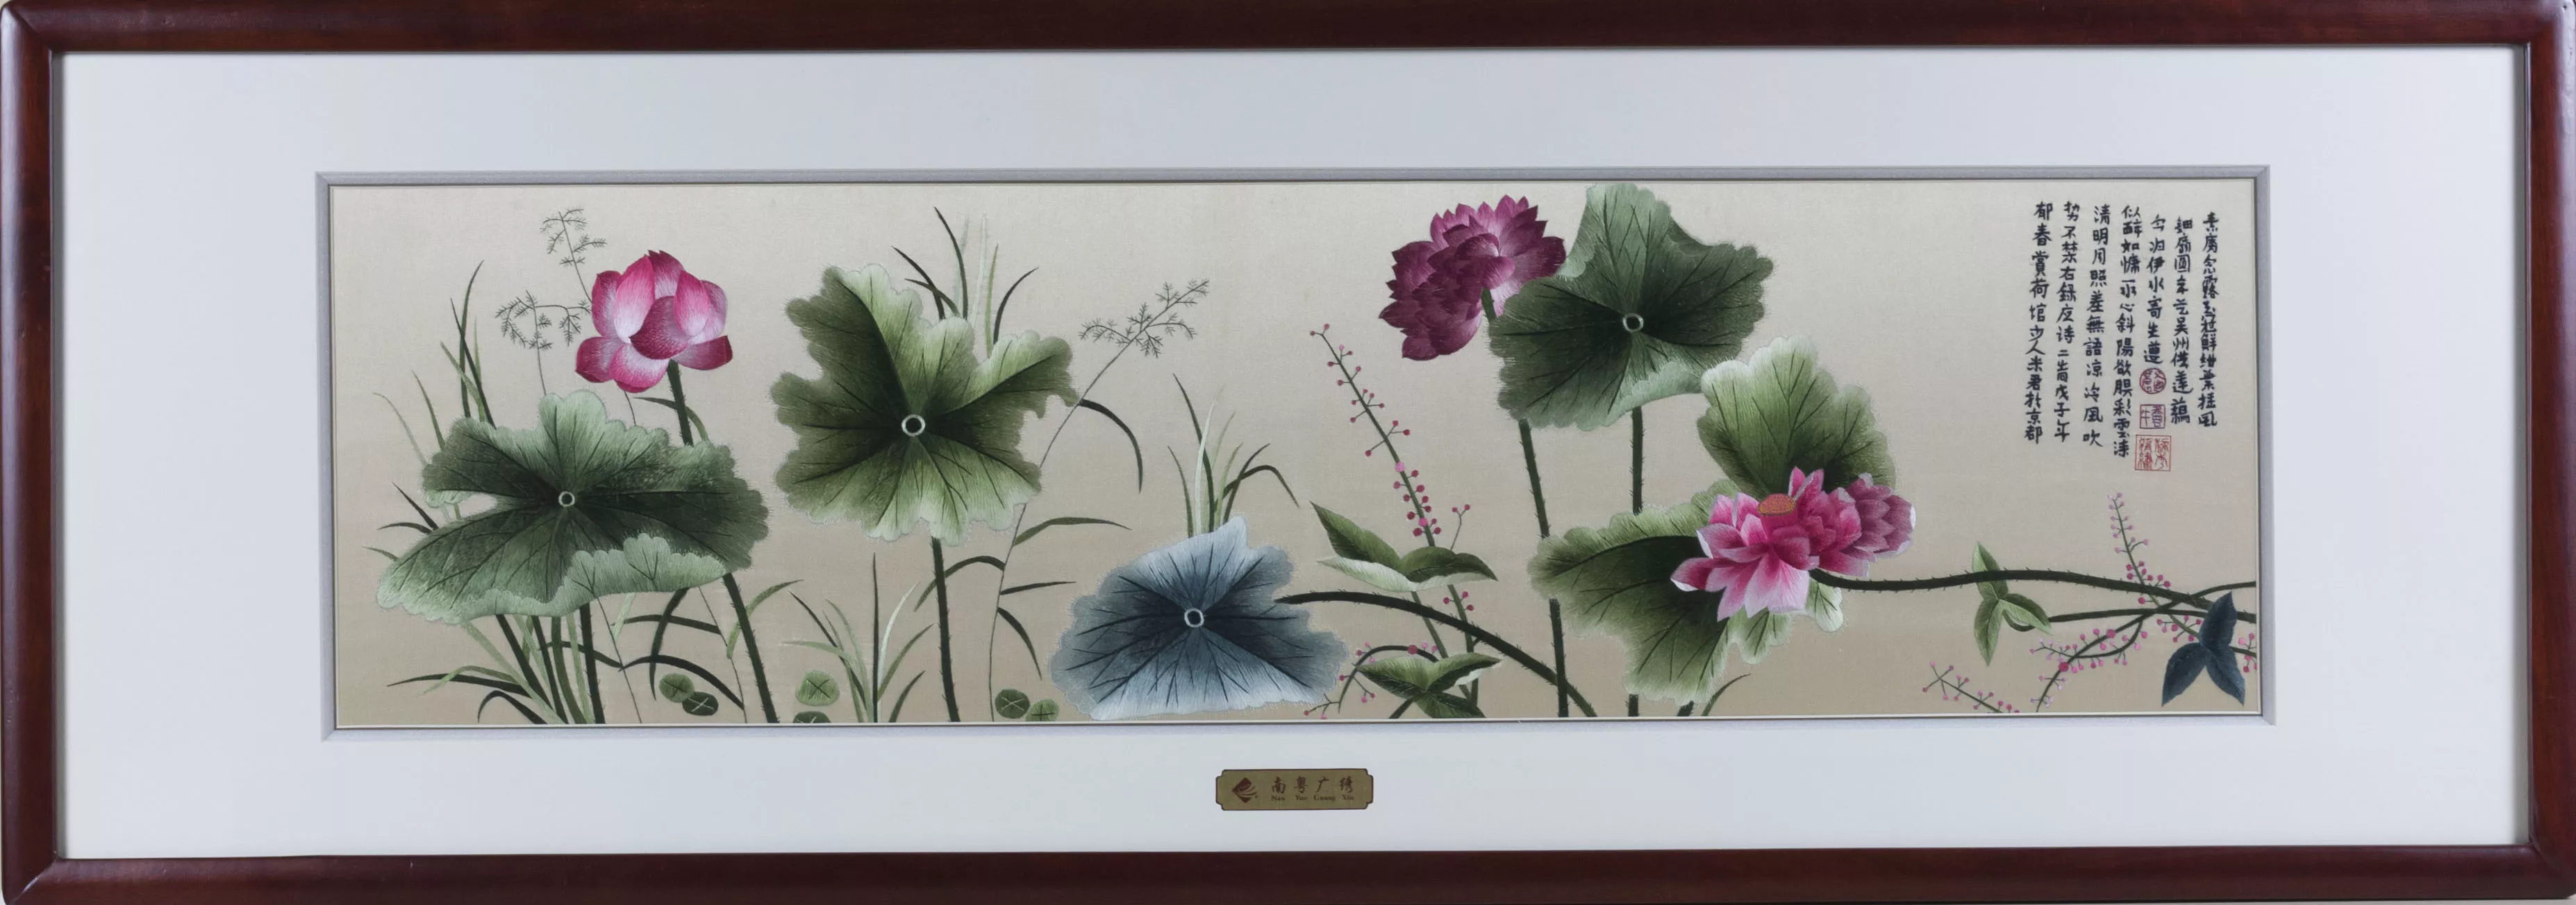lotus: (1672, 463, 1916, 613), (1382, 197, 1569, 360), (573, 243, 733, 396)
